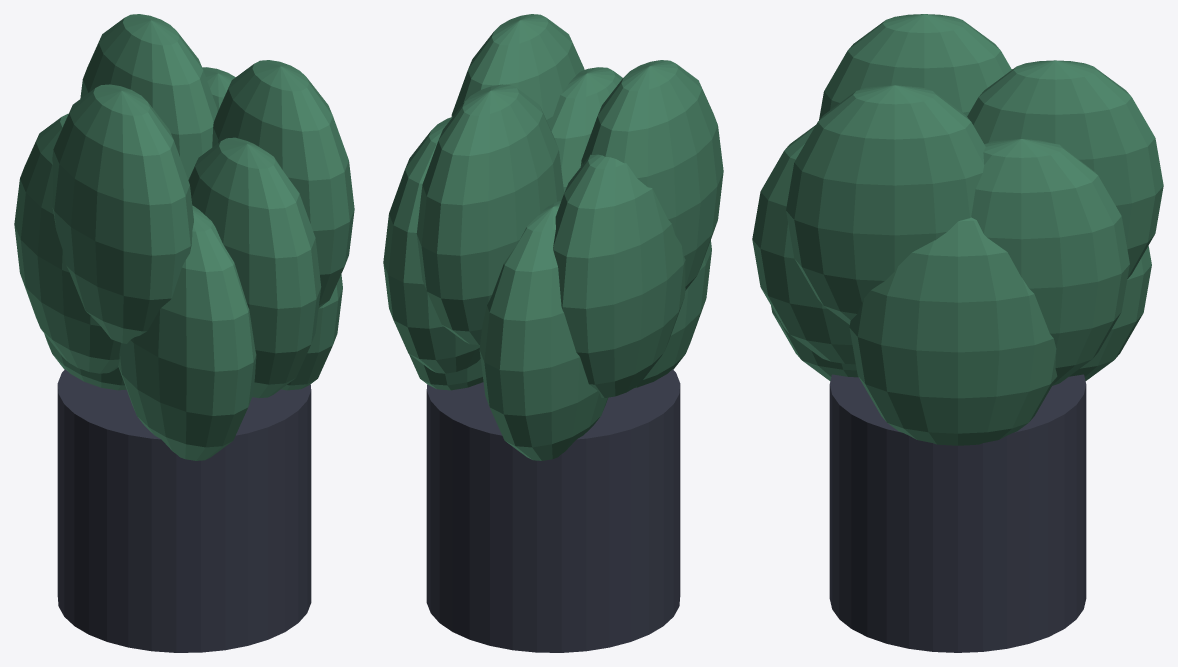
Rendered from plant.glb.
3 renders of one model, left to right at view 1: azimuth 30°, elevation 25°; view 2: azimuth 150°, elevation 25°; view 3: azimuth 270°, elevation 25°, orthographic.
Parts seen in each view (by area): view 1: Plant pot.002, Leaf.023, Leaf.024, Leaf.025, Leaf.026, Leaf.022, Leaf.020, Leaf.018, Leaf.021, Leaf.019; view 2: Plant pot.002, Leaf.020, Leaf.022, Leaf.021, Leaf.023, Leaf.019, Leaf.026, Leaf.025, Leaf.024, Leaf.018; view 3: Plant pot.002, Leaf.018, Leaf.026, Leaf.019, Leaf.020, Leaf.023, Leaf.025, Leaf.021, Leaf.024.
Boxes of the visible parts, box(x1,y1,x2,y2) form: Plant pot.002: box(57, 369, 311, 652); Leaf.023: box(52, 84, 193, 343); Leaf.024: box(118, 205, 256, 460); Leaf.025: box(188, 137, 321, 397); Leaf.026: box(212, 60, 354, 307); Leaf.022: box(14, 113, 120, 373); Leaf.020: box(80, 14, 217, 179); Leaf.018: box(281, 274, 342, 390); Leaf.021: box(44, 334, 126, 390); Leaf.019: box(202, 67, 235, 111); Plant pot.002: box(426, 369, 680, 652); Leaf.020: box(416, 84, 564, 344); Leaf.022: box(553, 154, 685, 398); Leaf.021: box(479, 201, 607, 460); Leaf.023: box(580, 60, 723, 290); Leaf.019: box(383, 116, 480, 373); Leaf.026: box(451, 14, 584, 124); Leaf.025: box(549, 67, 622, 192); Leaf.024: box(635, 240, 711, 387); Leaf.018: box(409, 354, 483, 390); Plant pot.002: box(829, 374, 1086, 652); Leaf.018: box(849, 217, 1057, 445); Leaf.026: box(786, 85, 985, 324); Leaf.019: box(971, 138, 1129, 385); Leaf.020: box(967, 60, 1163, 278); Leaf.023: box(819, 14, 1011, 119); Leaf.025: box(752, 125, 855, 364); Leaf.021: box(1069, 246, 1151, 380); Leaf.024: box(771, 306, 858, 380).
Size of the model in its own units: 0.6279 by 1.22 by 0.8339.
